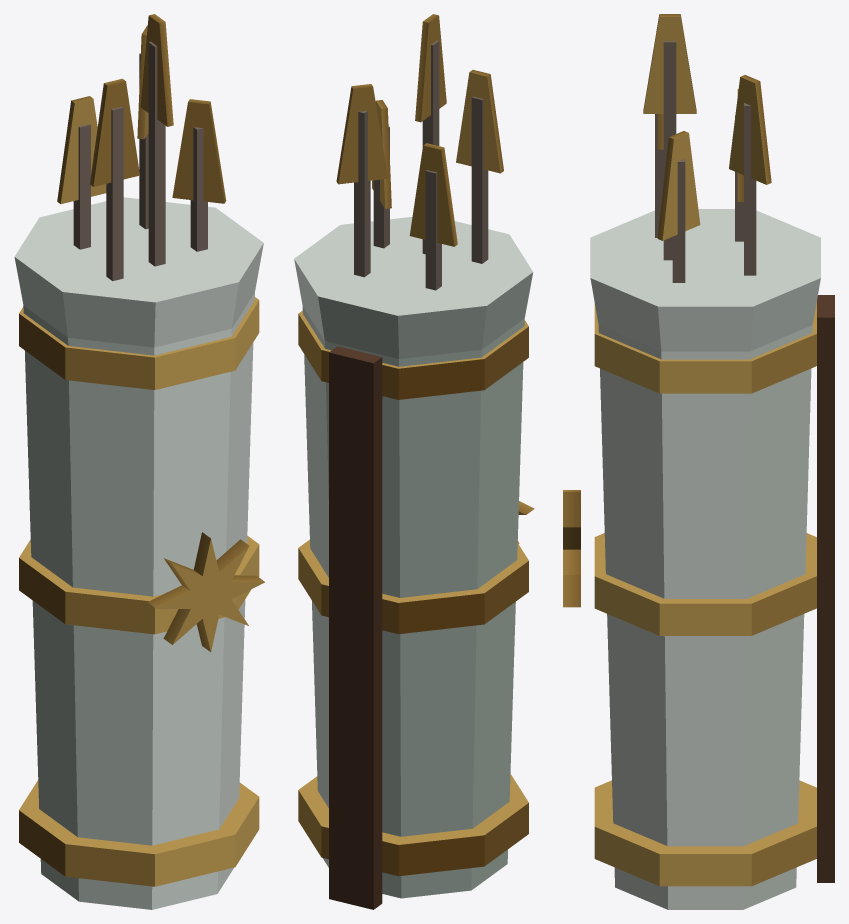
Rendered from ranger_off_4.gltf.
3 views of the same model, side by side, from view 1: azimuth 30°, elevation 25°; view 2: azimuth 150°, elevation 25°; view 3: azimuth 270°, elevation 25° (orthographic). The views are drawn at different scales.
Parts seen in each view (by area): view 1: ranger_off_4; view 2: ranger_off_4; view 3: ranger_off_4.
Part boxes in pixels (left/top/right/bottom): ranger_off_4: left=14, top=14, right=264, bottom=909; ranger_off_4: left=294, top=14, right=534, bottom=909; ranger_off_4: left=563, top=14, right=834, bottom=909.
Size of the model in its own units: 0.2587 by 1.08 by 0.305.
1 material, 1 textured.
